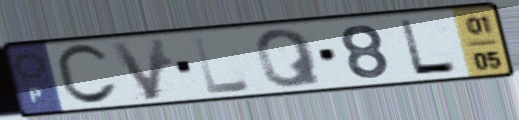8: (338, 23, 393, 80)
C: (53, 42, 122, 108)
L: (190, 32, 255, 97), (396, 17, 462, 77)
Q: (252, 27, 326, 90)
V: (106, 35, 169, 103)
